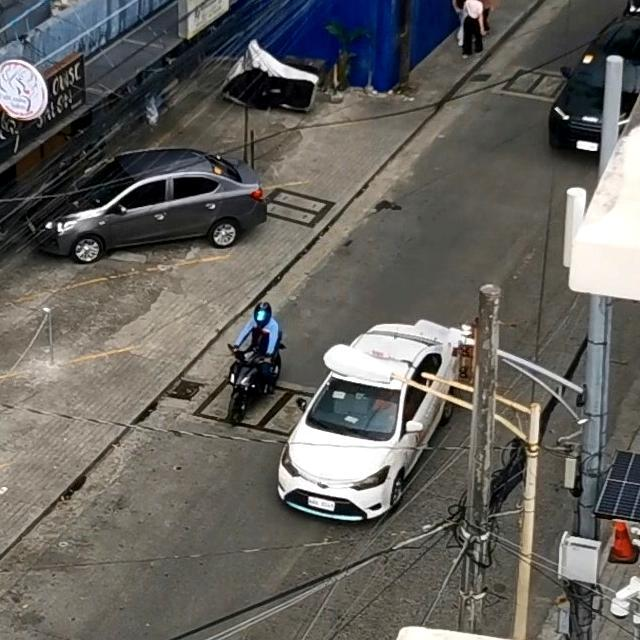Car: (264, 303, 488, 543), (8, 137, 280, 286), (520, 9, 640, 170)
